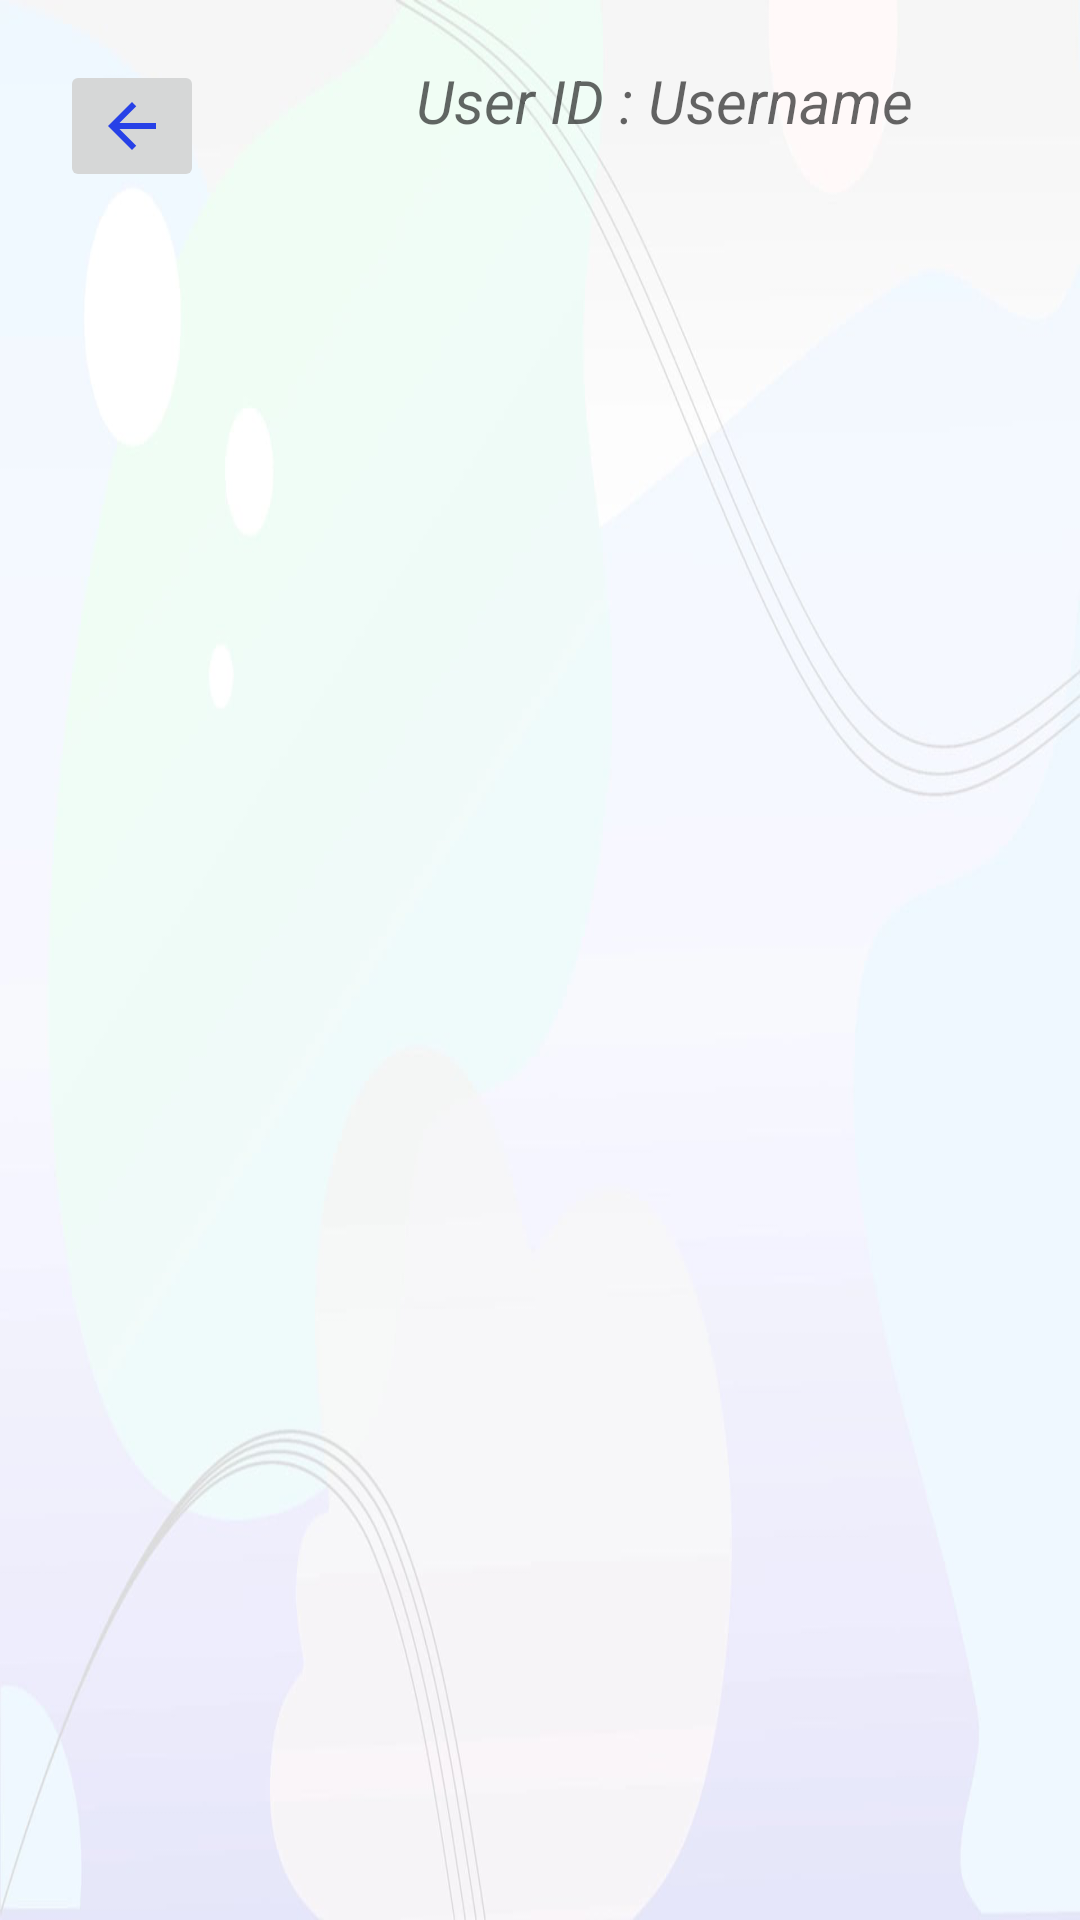

Where to tap for icons on this 1080 × 1920 app screen, as (x,y):
back: (132,126)
